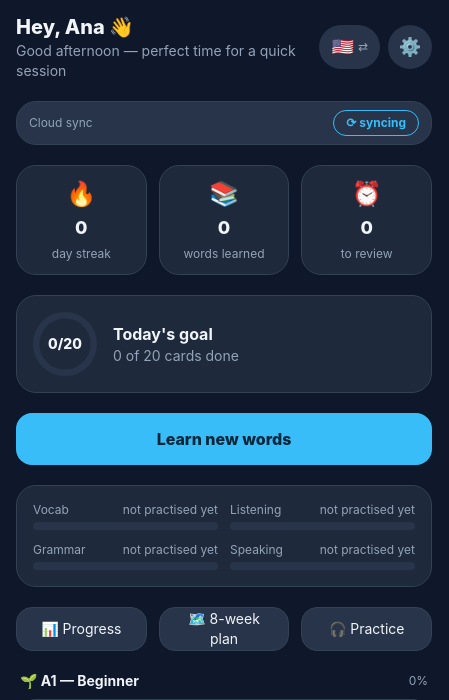
Scenario: first run with a Supabase project in the build › still lets her open the step from Home to check the code she has
Step 1. Click the button with test id "sync-line" → (61, 122), box [16,101,432,145]
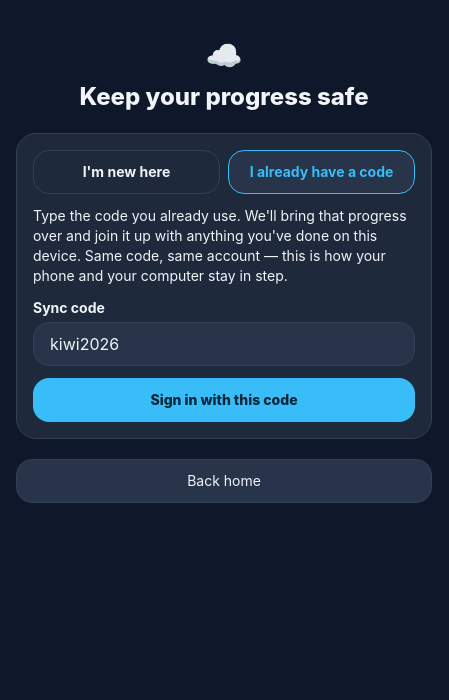
Result: the heading "Keep your progress safe" is shown at [79,81,369,113]
Result: the field labelled "Sync code" holds "kiwi2026" at [33,322,415,366]
Not the gate this time: there is a way back with nothing changed.
Step 2. Click the button "Back home" → (224, 481), box [16,459,432,503]
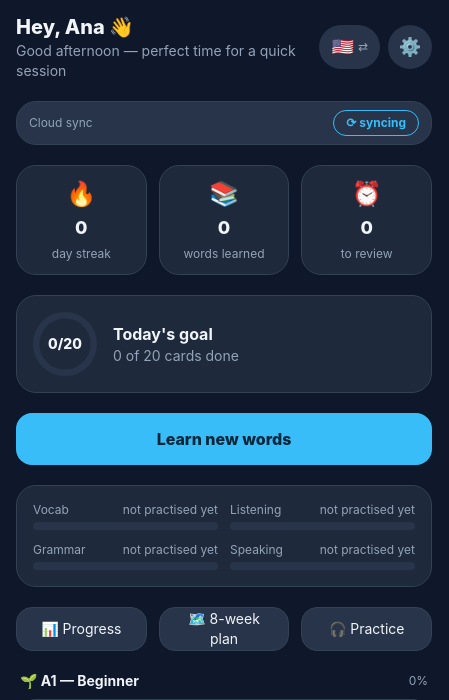
Result: the button with test id "study-now" is shown at [16,413,432,465]
